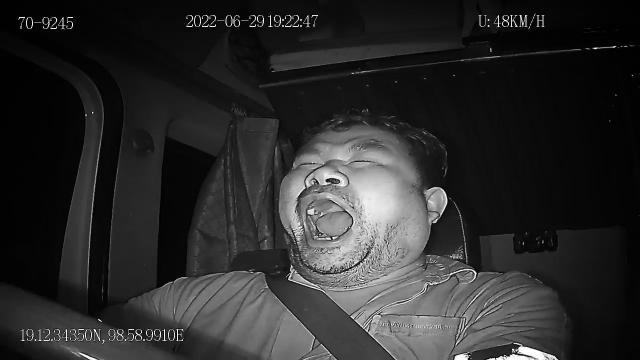Seatbelt: (264, 270, 400, 360)
